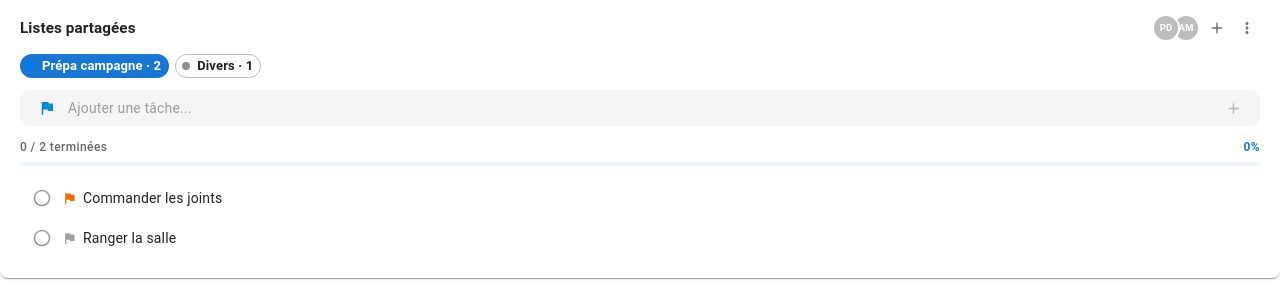
Scenario: SharedTasksWidget › change de liste au clic sur un chip
Click the button "Divers · 1" at (218, 66), box left=175, top=54, right=261, bottom=78
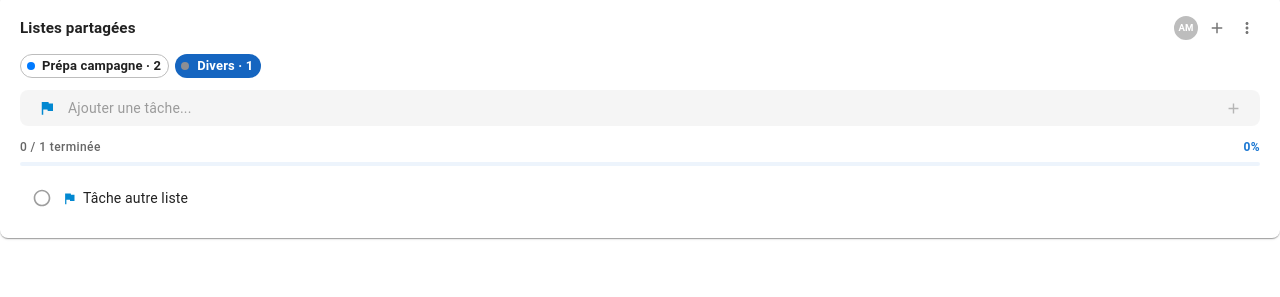
Now the text "Tâche autre liste" is shown, box left=83, top=190, right=188, bottom=206
Now the text "Commander les joints" is gone
